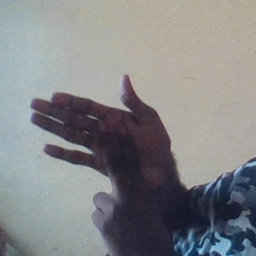N: (24, 71, 186, 231)
